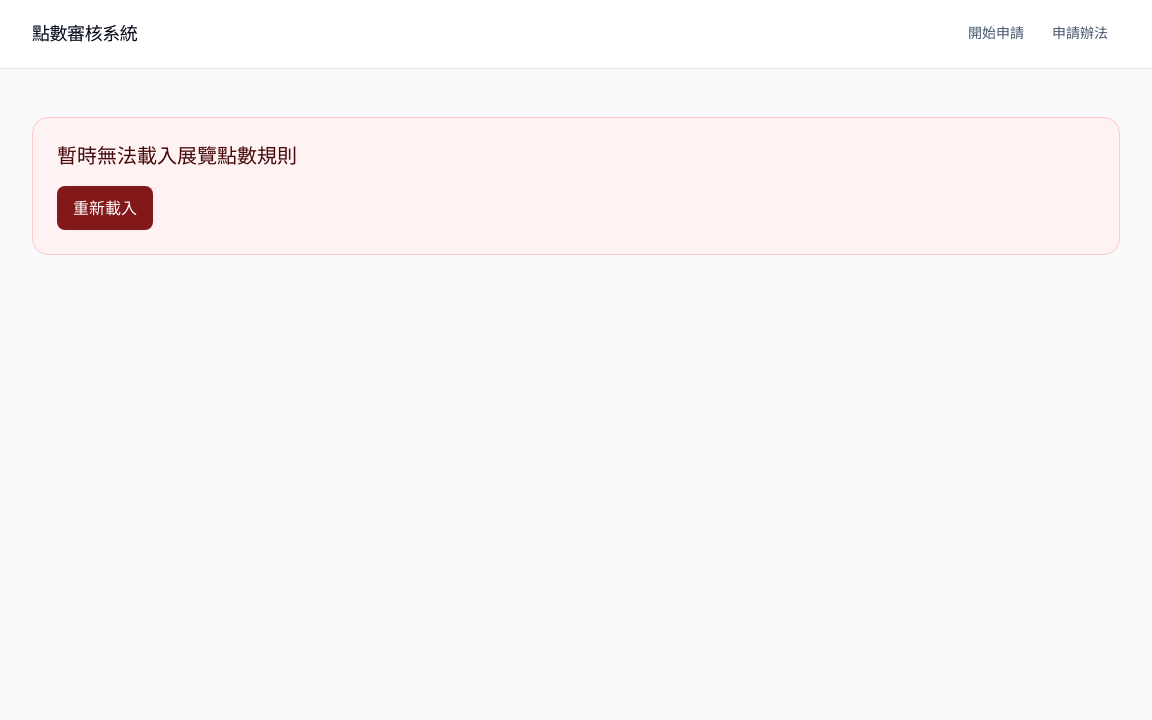
Test: exhibition application page › shows a retryable blocking state when point rules fail to load
Check: the heading "暫時無法載入展覽點數規則" is shown, box [57,144,297,168]
Click the button "重新載入": (105, 208) [57,186,153,230]
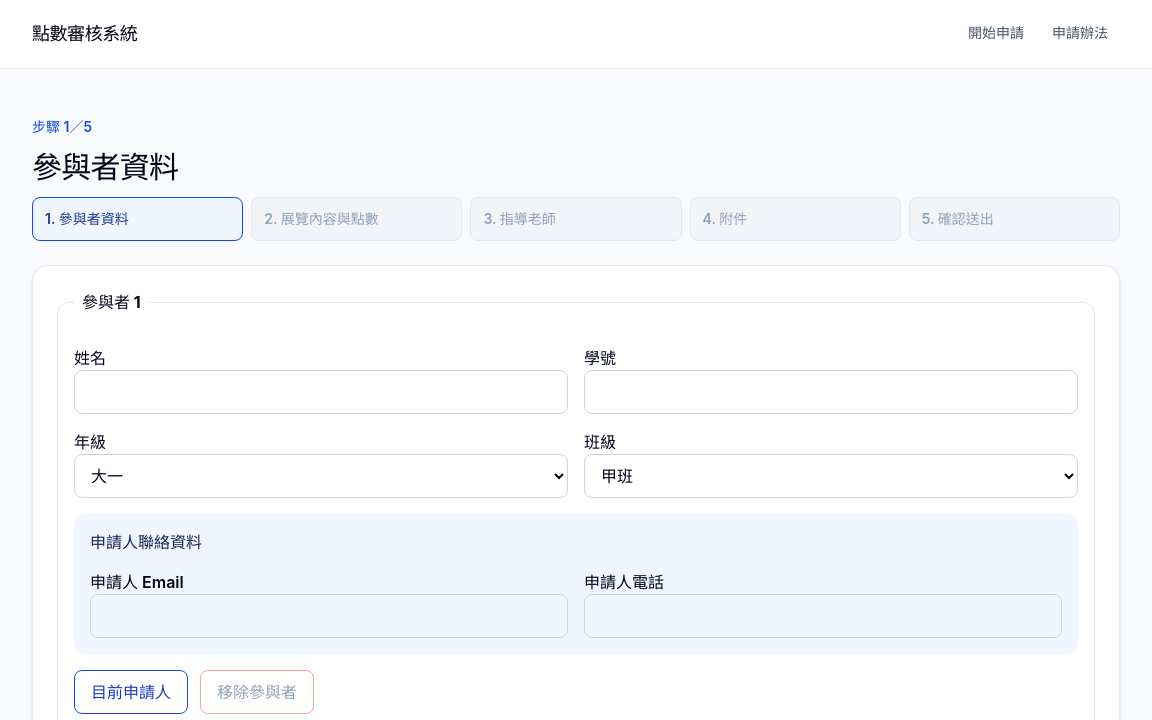
Check: the heading "參與者資料" is shown, box [32,149,178,185]
